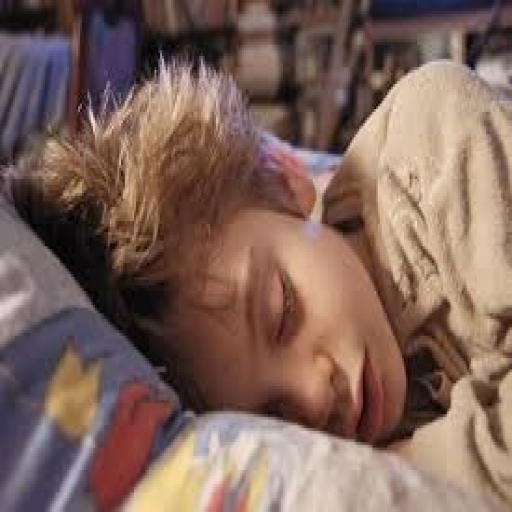sleeping: (6, 50, 510, 506)
